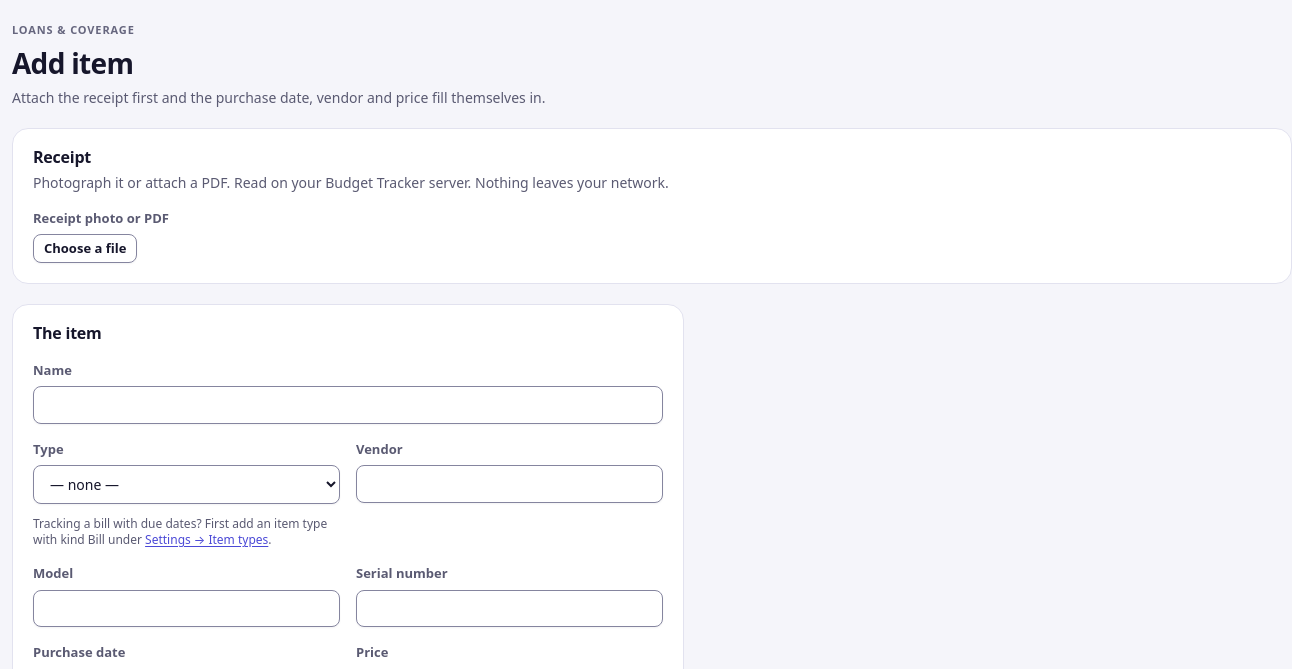
NewWarrantyClient › hides the Billing fields until a subscription/contract type is selected
Select "Netflix plan" in the dropdown named "typeId" at {"x": 186, "y": 485}, box [33,465,340,504]
(page scrolled)
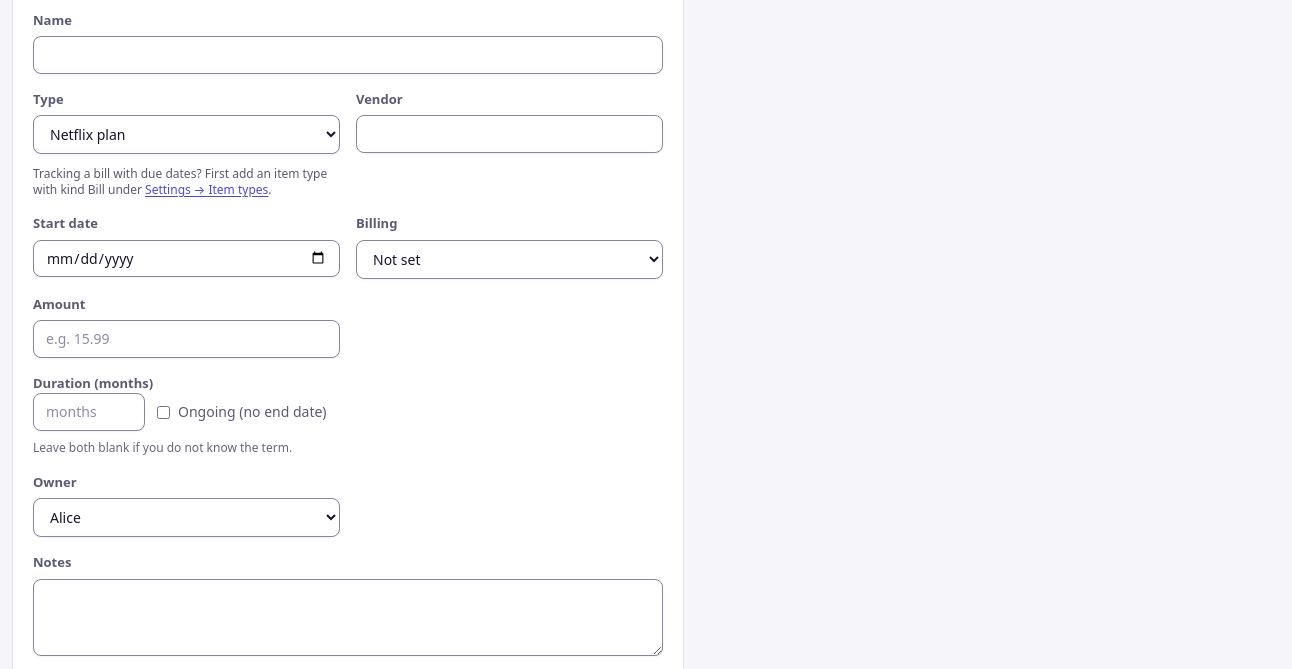
Now the dropdown named "billingCycle" is shown, box [356,240,663,279]
Now the field named "billingAmount" is shown, box [33,320,340,358]
